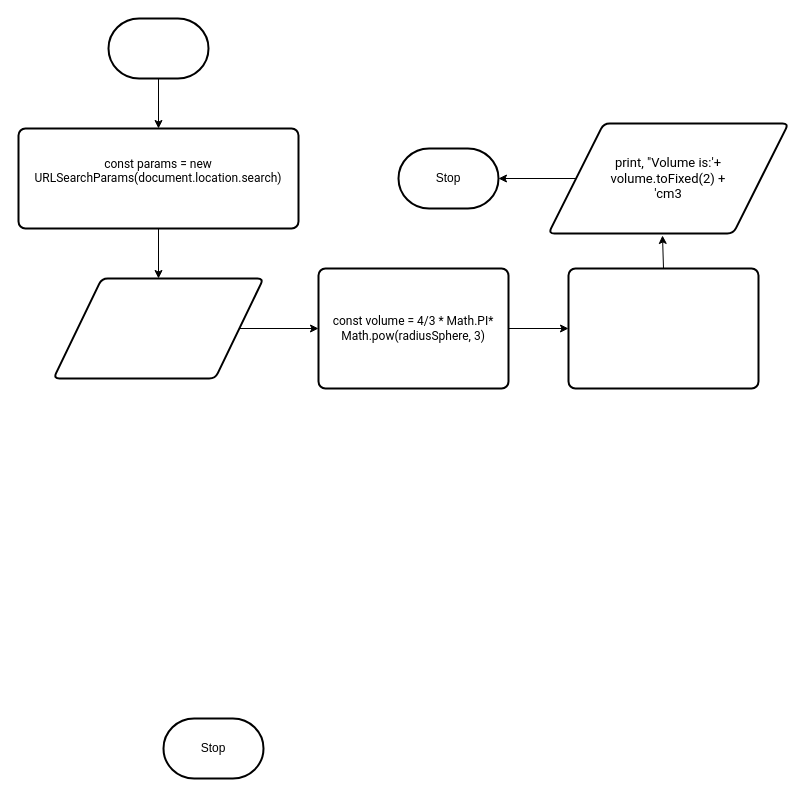
Image size: 806x796. Some labels were removed from this diagram. The centre of each missing label's shape, as x and y in pixels:
const dimmensions = "<ul>\n<li>r = " + radius Sphere: point (663, 328)
const radiusSphere = params.get('r: point (158, 328)
Start: point (158, 48)
